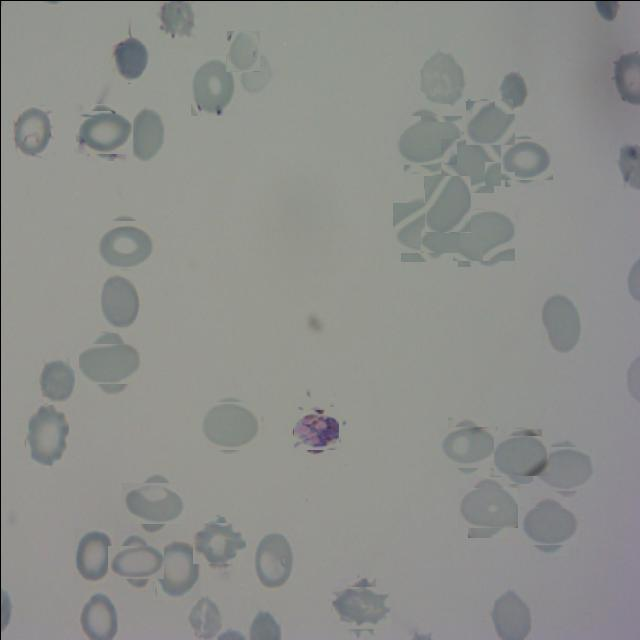leukocyte: (396, 198, 455, 257), (398, 110, 456, 168), (454, 206, 511, 263), (151, 538, 200, 600), (202, 397, 256, 453), (442, 134, 497, 188), (126, 476, 180, 530), (536, 442, 590, 496), (24, 402, 68, 468), (99, 217, 153, 270), (190, 55, 237, 115), (423, 175, 470, 232), (251, 530, 295, 590), (540, 292, 582, 354), (442, 421, 493, 472), (334, 581, 385, 632), (82, 338, 134, 388), (79, 106, 129, 157), (97, 272, 140, 331), (462, 482, 512, 532), (420, 48, 466, 102), (524, 501, 573, 550), (72, 527, 113, 585), (501, 134, 548, 182), (195, 518, 242, 566), (496, 432, 544, 479), (466, 99, 513, 146), (126, 106, 164, 164), (112, 540, 158, 584), (34, 356, 74, 405), (109, 34, 148, 83), (14, 105, 51, 156), (225, 30, 259, 71), (494, 72, 526, 113)
ring: (294, 408, 336, 450)
